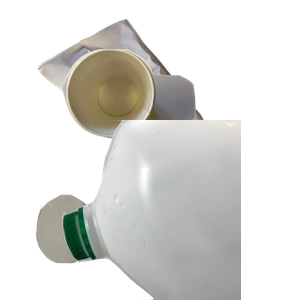glass: (34, 192, 187, 300)
paper: (35, 10, 237, 178)
plastic: (60, 120, 300, 300)
trash: (60, 47, 300, 227)
